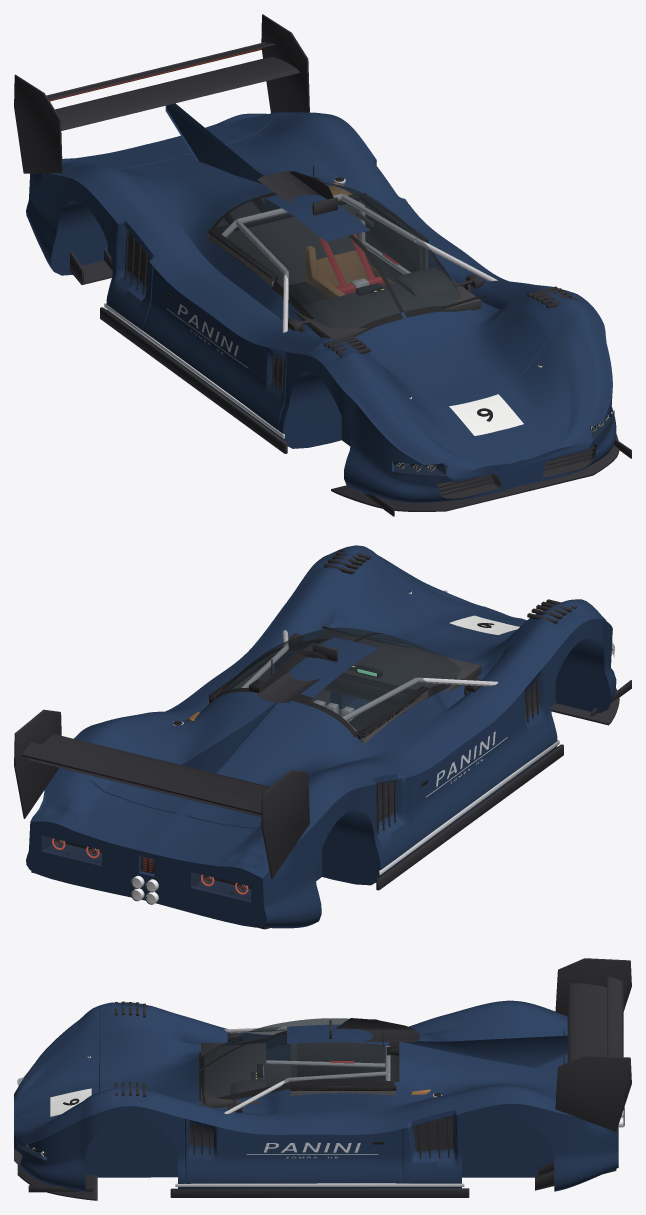
File: panini_zomba.glb
The picture shows the model from 3 angles, top to bottom: view 1: azimuth 30°, elevation 25°; view 2: azimuth 150°, elevation 25°; view 3: azimuth 270°, elevation 25°; orthographic projection. The views are drawn at different scales.
Parts seen in each view (by area): view 1: panini_zomba; view 2: panini_zomba; view 3: panini_zomba.
Boxes of the visible parts, x1,y1,x2,y2 form: panini_zomba: (14, 14, 631, 516); panini_zomba: (14, 545, 631, 929); panini_zomba: (14, 958, 631, 1200).
Size of the model in its own units: 2.14 by 1.27 by 5.09.
Materials: 25 (1 with a texture image).
